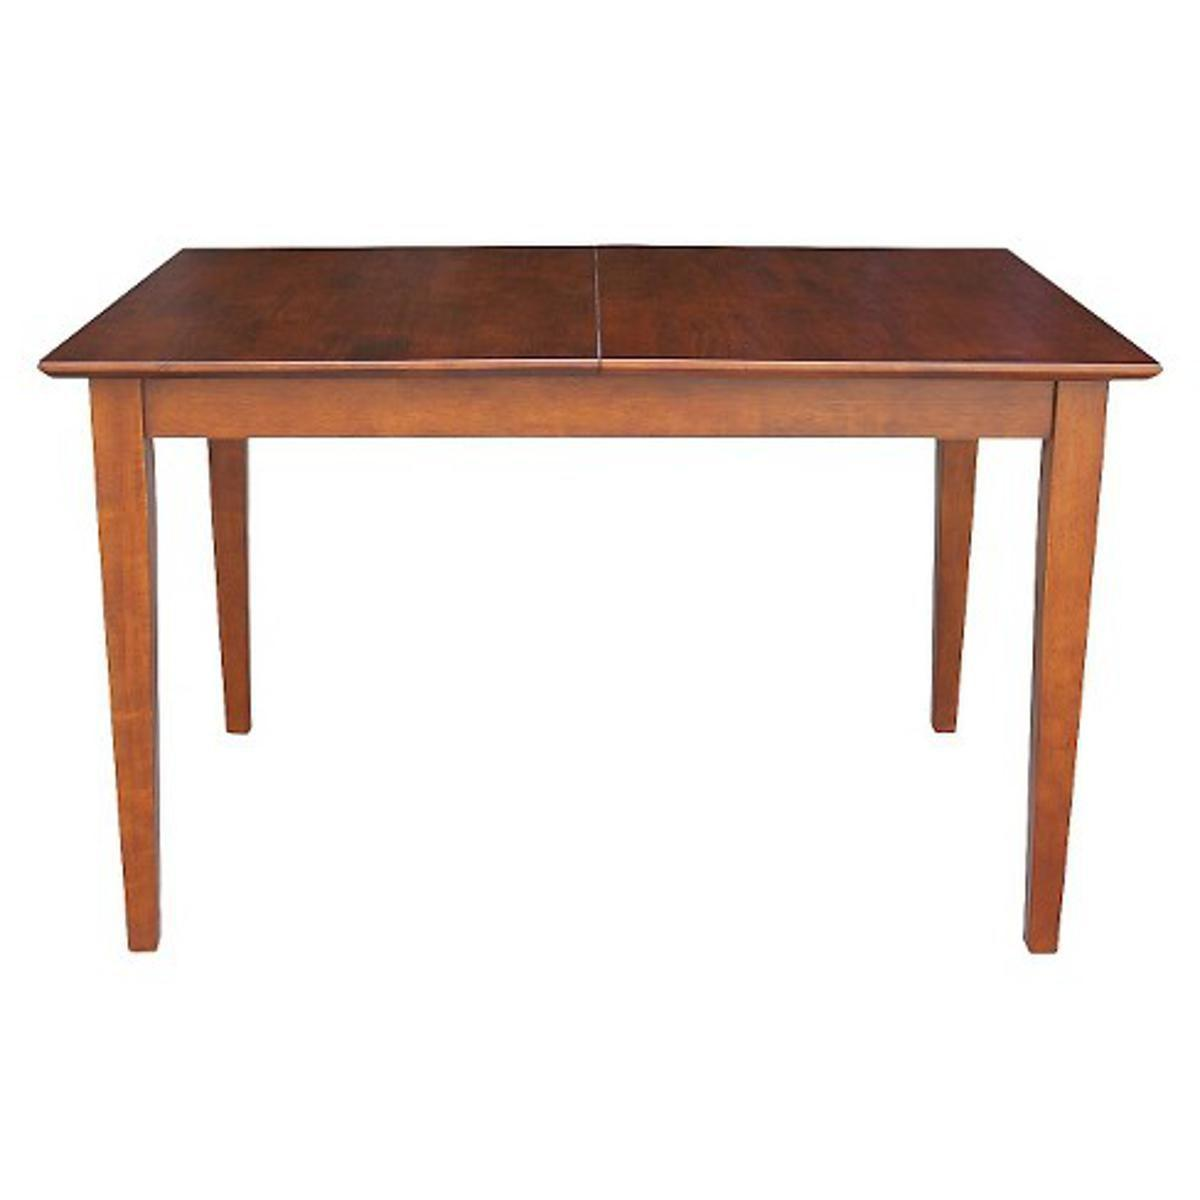Table: (14, 212, 1178, 1013)
